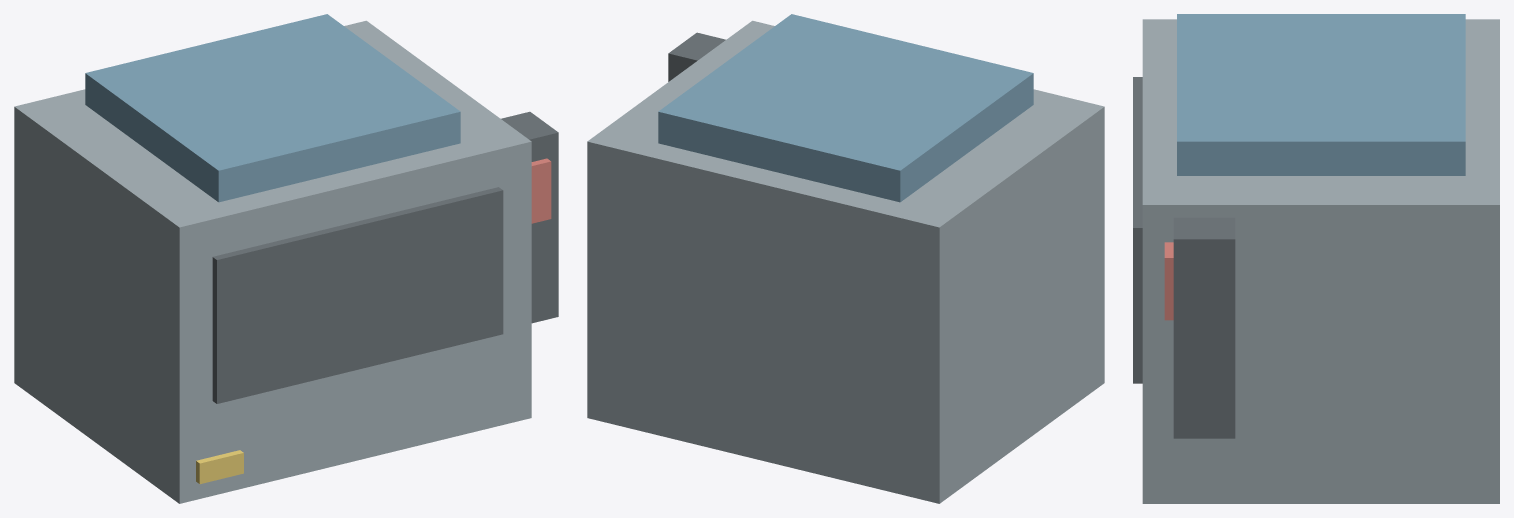
The model's file is maintenance_machine_lod1.glb.
The picture shows the model from 3 angles, left to right: view 1: azimuth 30°, elevation 25°; view 2: azimuth 150°, elevation 25°; view 3: azimuth 270°, elevation 25°; orthographic projection. The views are drawn at different scales.
Visible parts, largest first — view 1: maintenance-machine-node-0, maintenance-machine-node-1, maintenance-machine-node-3, maintenance-machine-node-2, maintenance-machine-node-4, maintenance-machine-node-5; view 2: maintenance-machine-node-0, maintenance-machine-node-1, maintenance-machine-node-2; view 3: maintenance-machine-node-0, maintenance-machine-node-1, maintenance-machine-node-2, maintenance-machine-node-3, maintenance-machine-node-4.
Part boxes in pixels (bbox=[...]): maintenance-machine-node-0: bbox=[14, 20, 531, 503]; maintenance-machine-node-1: bbox=[85, 14, 460, 202]; maintenance-machine-node-3: bbox=[212, 187, 503, 403]; maintenance-machine-node-2: bbox=[501, 111, 558, 323]; maintenance-machine-node-4: bbox=[531, 158, 551, 223]; maintenance-machine-node-5: bbox=[196, 450, 243, 484]; maintenance-machine-node-0: bbox=[587, 20, 1104, 503]; maintenance-machine-node-1: bbox=[658, 14, 1033, 202]; maintenance-machine-node-2: bbox=[668, 32, 725, 81]; maintenance-machine-node-0: bbox=[1142, 19, 1499, 503]; maintenance-machine-node-1: bbox=[1177, 14, 1465, 175]; maintenance-machine-node-2: bbox=[1173, 217, 1235, 438]; maintenance-machine-node-3: bbox=[1133, 77, 1142, 383]; maintenance-machine-node-4: bbox=[1164, 242, 1173, 320].
Size of the model in its own units: 3.58 by 2.67 by 2.67.
